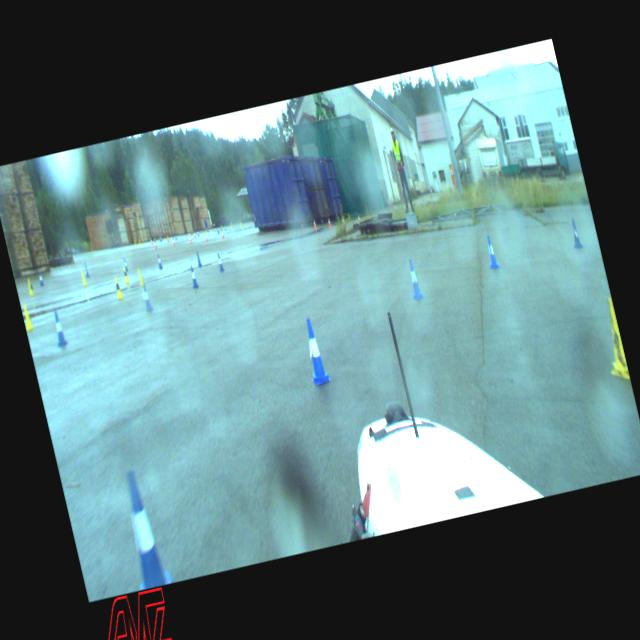blue_cone: (114, 472, 170, 590), (299, 317, 331, 385), (404, 258, 424, 302), (49, 310, 68, 347), (482, 233, 499, 270), (567, 217, 583, 250), (140, 281, 152, 311), (188, 265, 198, 288), (36, 269, 46, 287), (216, 252, 224, 272), (120, 256, 128, 272), (195, 250, 202, 267), (82, 262, 89, 278), (156, 253, 162, 268)
orange_cone: (326, 217, 331, 226), (342, 216, 346, 226), (312, 219, 316, 228)
yellow_cone: (594, 296, 630, 384), (20, 302, 34, 332), (111, 274, 122, 300), (25, 278, 35, 296), (78, 269, 86, 285), (136, 267, 143, 284), (122, 265, 128, 283)
